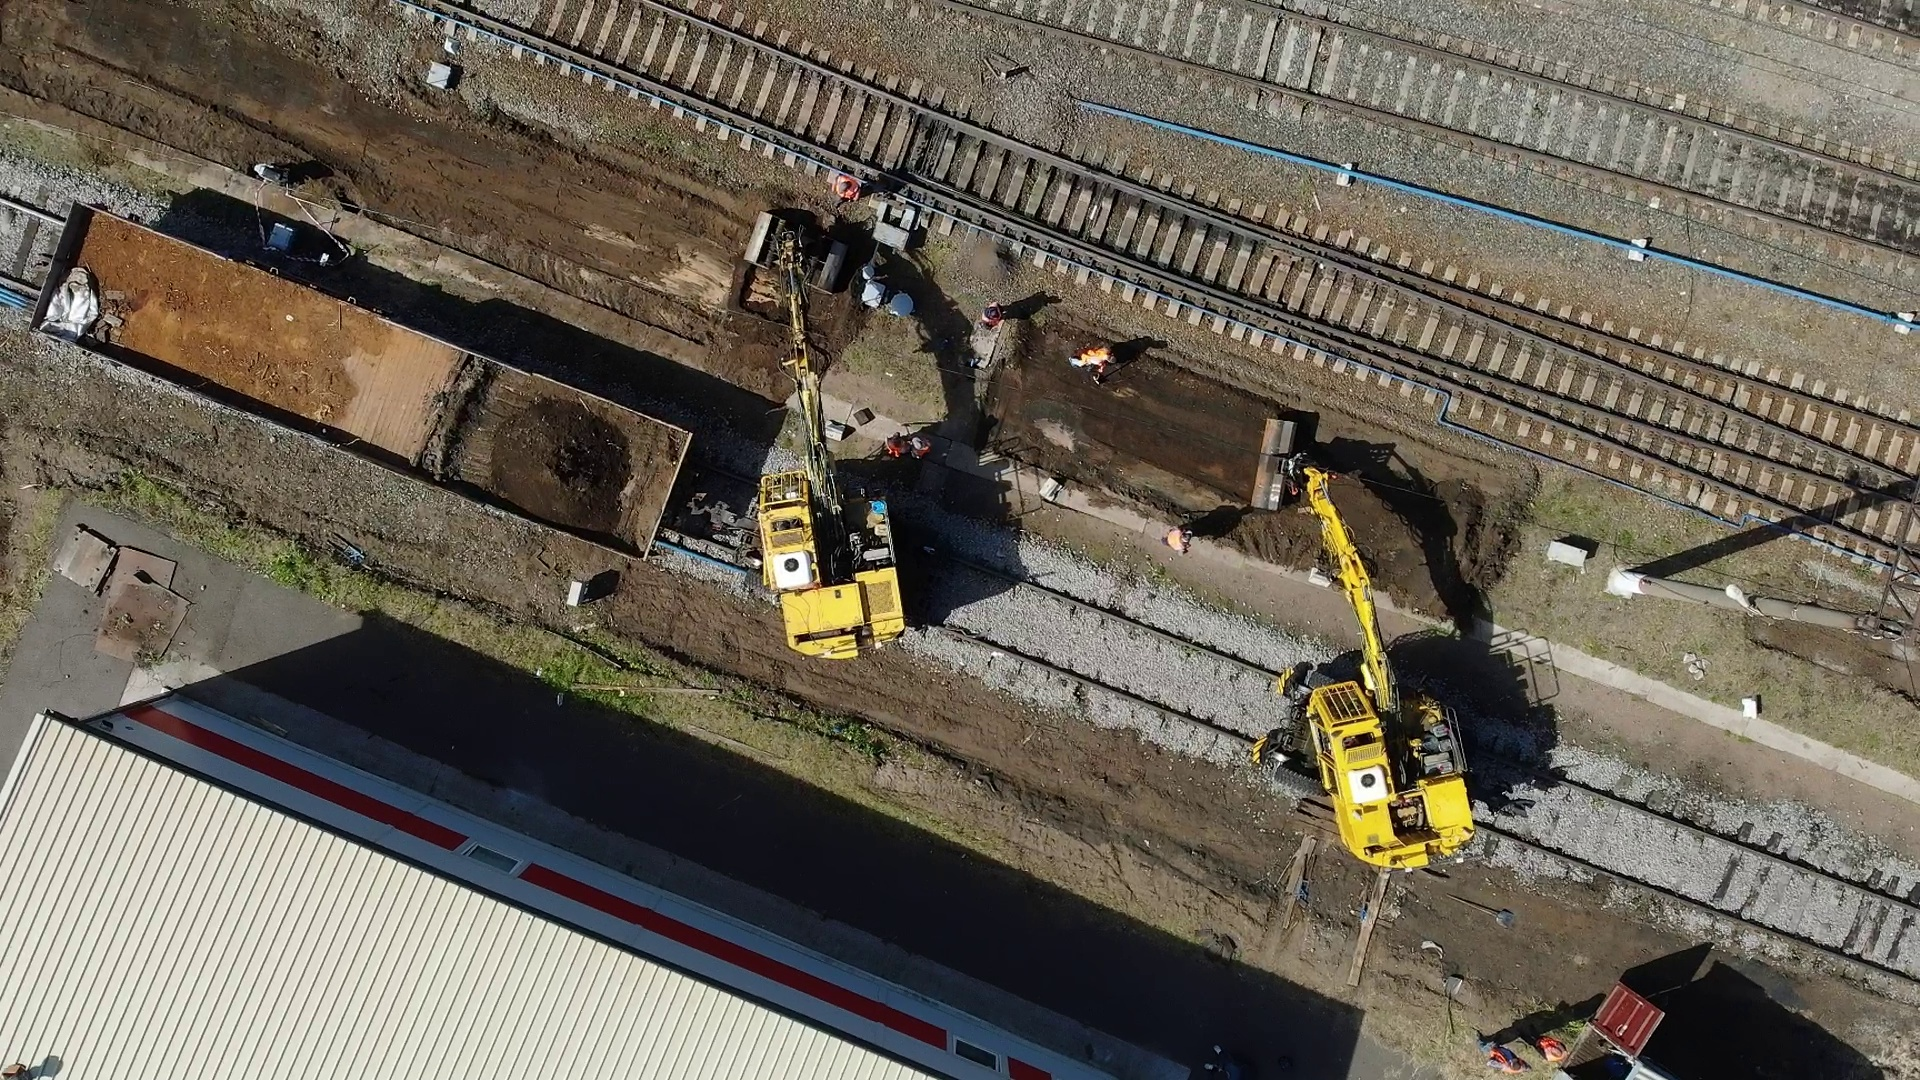kjtv: (1274, 591, 1478, 866), (761, 440, 899, 661)
